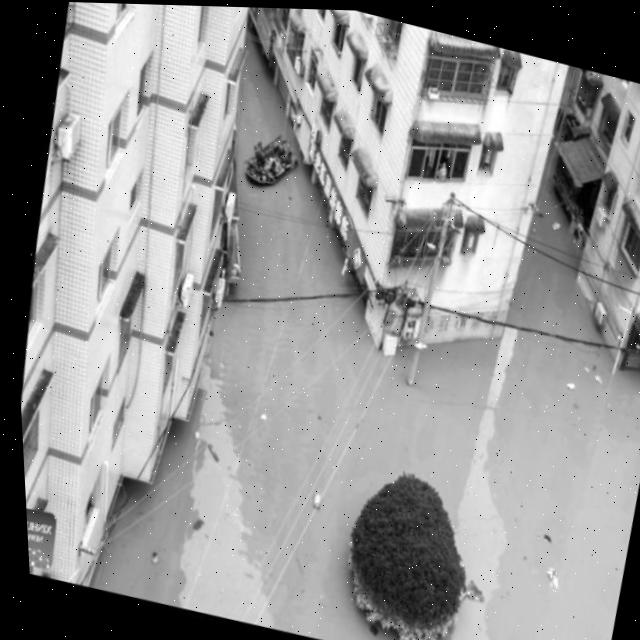rescuer: (244, 134, 271, 171), (275, 141, 298, 168), (266, 148, 282, 177)
